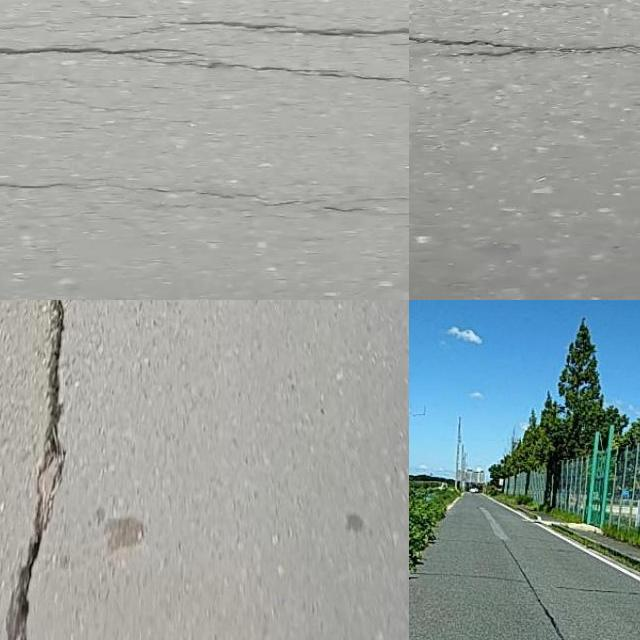Melintang: (0, 35, 409, 90), (162, 7, 409, 53), (409, 30, 640, 72), (0, 172, 115, 198)
Memanjang: (4, 300, 88, 640), (497, 532, 584, 640)
